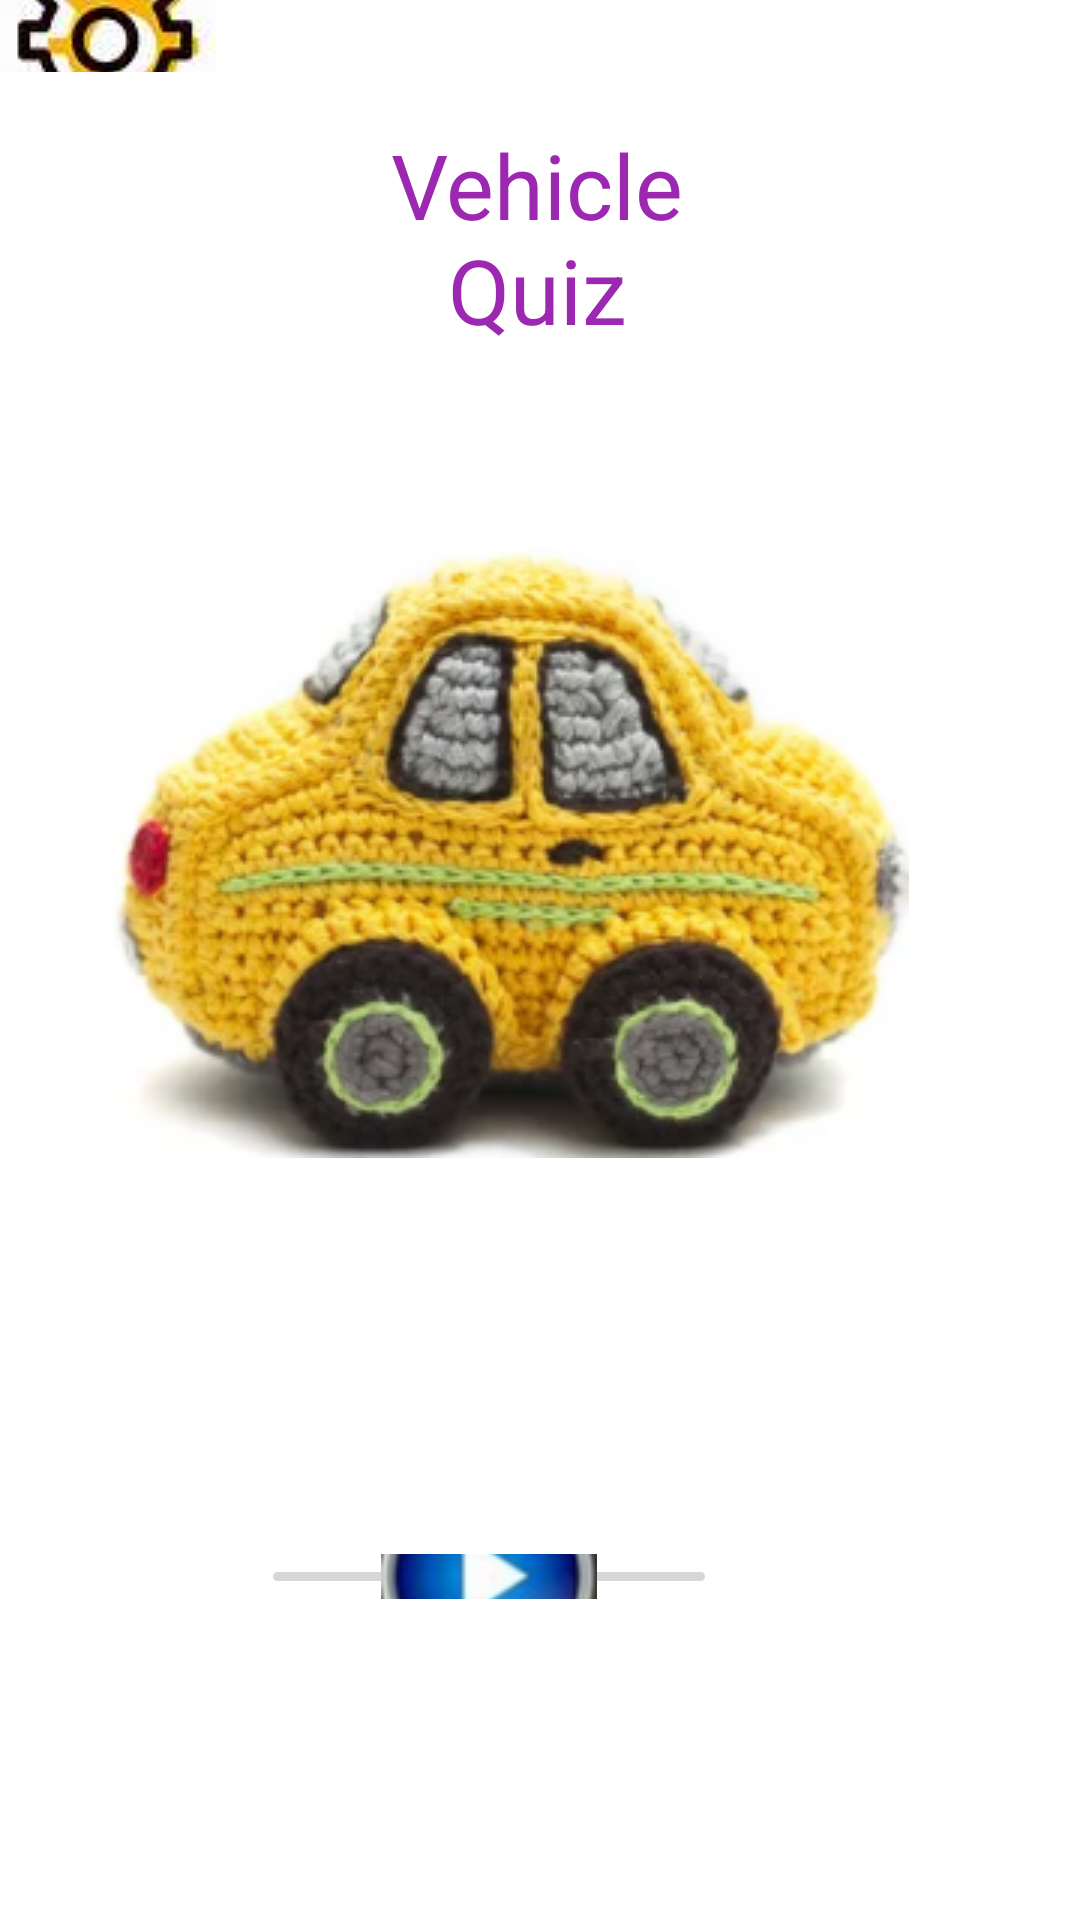

Icons on this 1080×1920 Android screen, each with the point to tap as [x,y]:
settings: [116,36]
